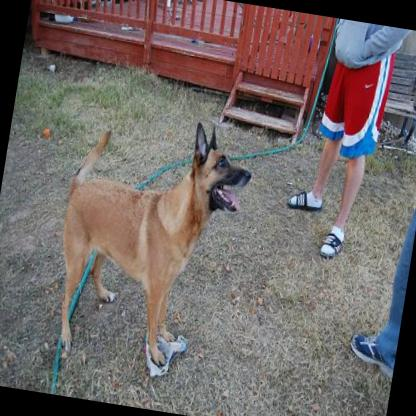malinois: (41, 100, 258, 372)
